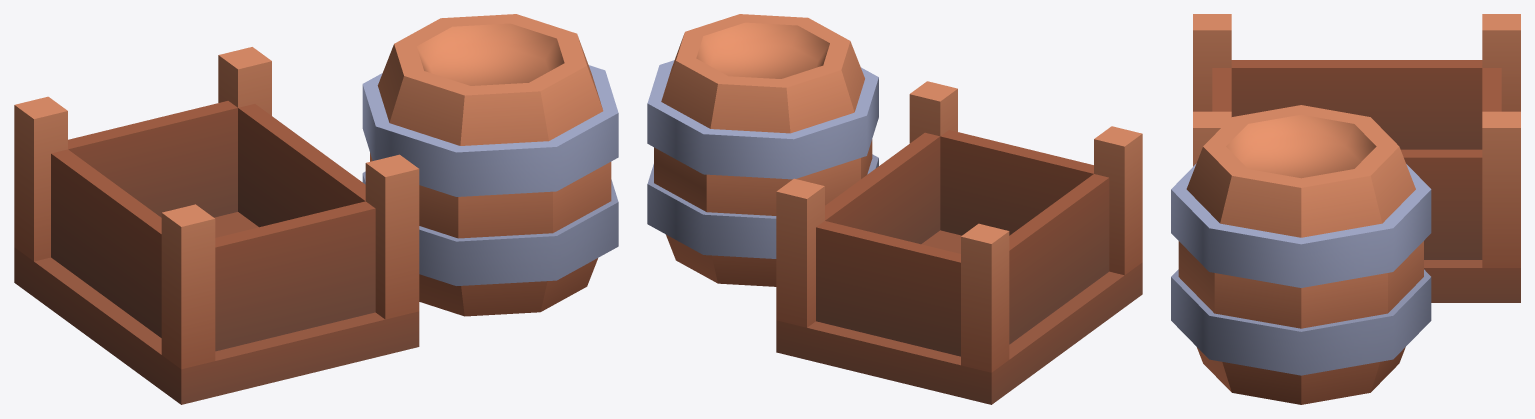
File: cargo.glb
3 views of the same model, side by side, from view 1: azimuth 30°, elevation 25°; view 2: azimuth 150°, elevation 25°; view 3: azimuth 270°, elevation 25° (orthographic). The views are drawn at different scales.
Visible parts, largest first — view 1: cargo; view 2: cargo; view 3: cargo.
Part boxes in pixels (bbox=[...]): cargo: bbox=[14, 14, 618, 404]; cargo: bbox=[647, 14, 1142, 404]; cargo: bbox=[1171, 14, 1520, 404].
Size of the model in its own units: 2.93 by 1.29 by 1.89.
Materials: 2 (2 with a texture image).
